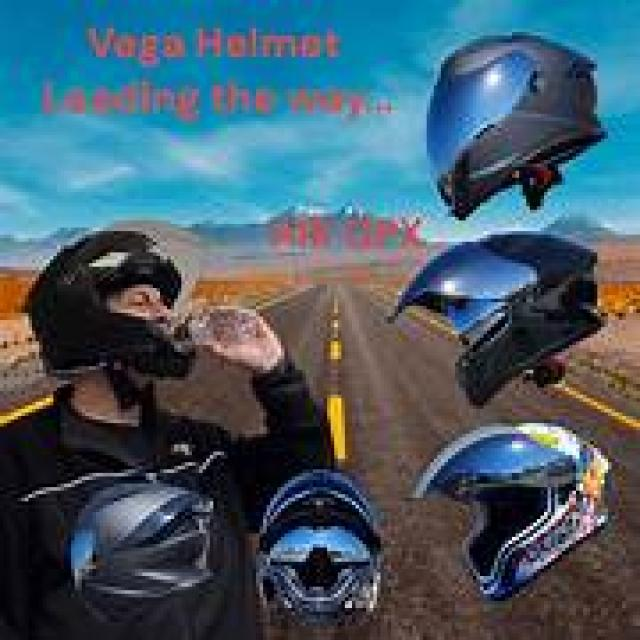helmet: (388, 231, 601, 402), (420, 423, 608, 597), (427, 36, 601, 217), (64, 452, 220, 636), (25, 228, 196, 388), (263, 473, 373, 619)
